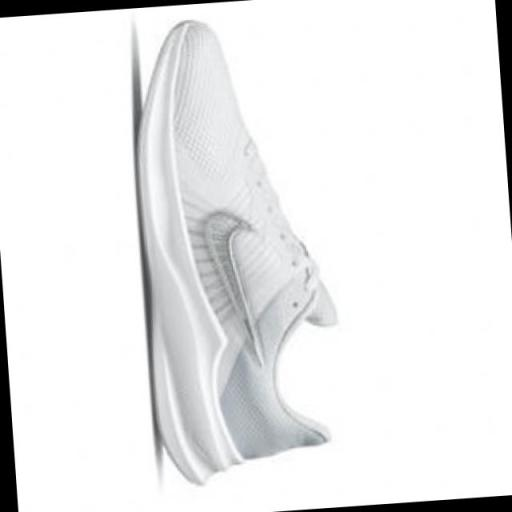Nike: (198, 200, 269, 379)
